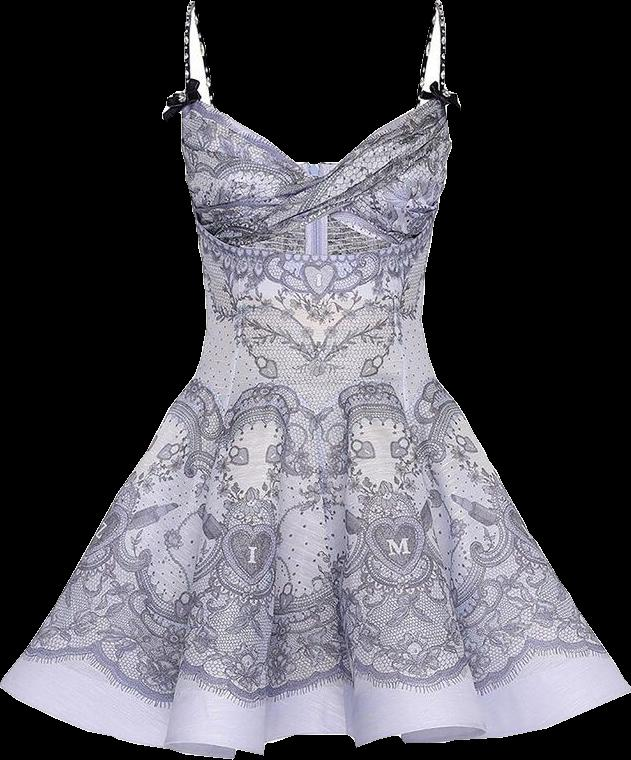Bodice: (179, 84, 451, 330)
Hemline: (0, 678, 630, 759)
Neckline: (181, 86, 444, 180)
Skirt: (0, 330, 630, 758)
